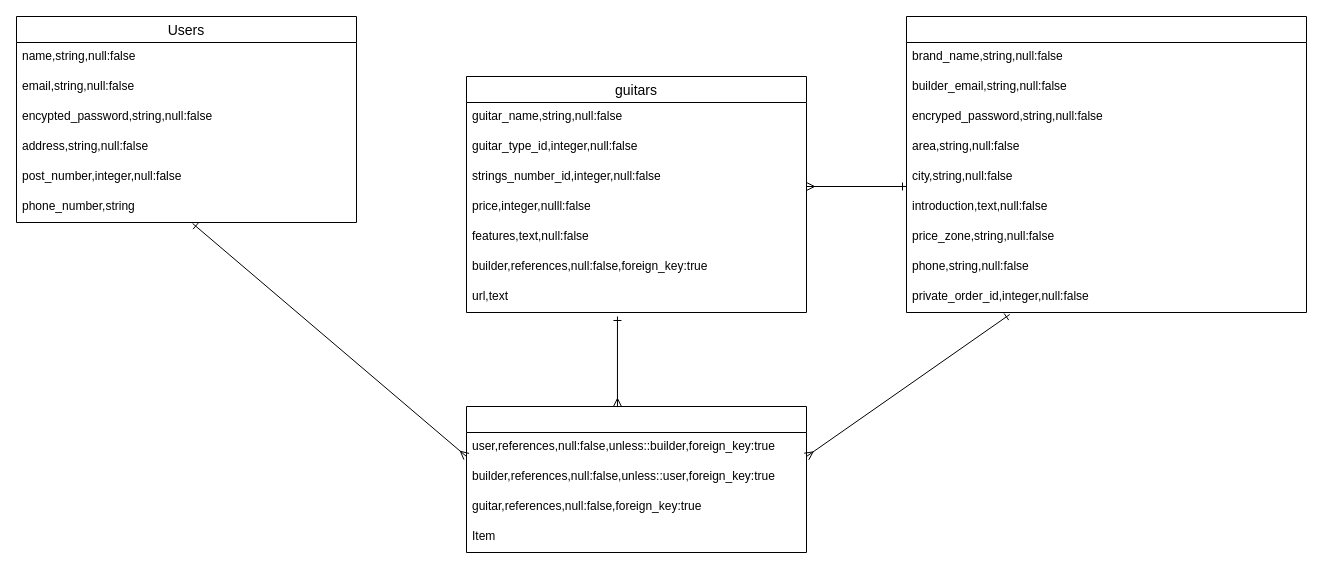
This 1323x569 diagram has some shape labels left out. Here are the shapes that lost their labels. From the top down, the box of each, then its label:
(906, 16, 1306, 312): Builders
(466, 406, 806, 552): Comments
